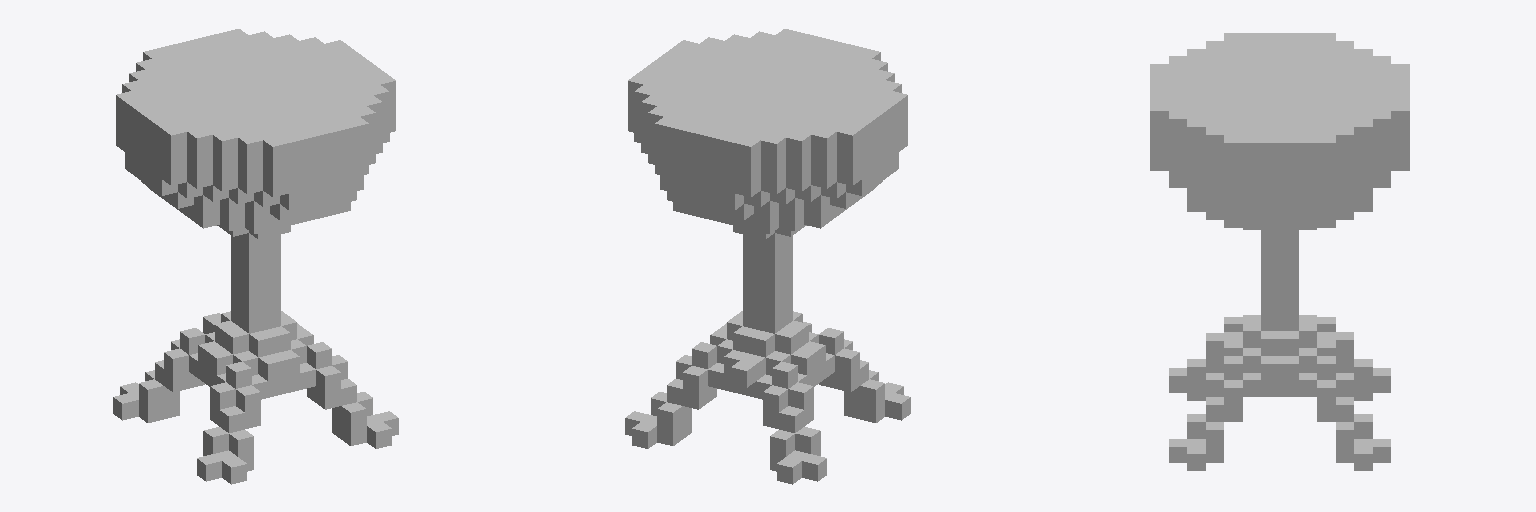
Rendered from Chair.obj.
3 views of the same model, side by side, from view 1: azimuth 30°, elevation 25°; view 2: azimuth 150°, elevation 25°; view 3: azimuth 270°, elevation 25° (orthographic).
Parts seen in each view (by area): view 1: object 1; view 2: object 1; view 3: object 1.
Part boxes in pixels (left/top/right/bottom): object 1: left=113, top=29, right=398, bottom=484; object 1: left=625, top=29, right=910, bottom=484; object 1: left=1150, top=33, right=1409, bottom=470.
Size of the model in its own units: 1.4 by 2 by 1.4.